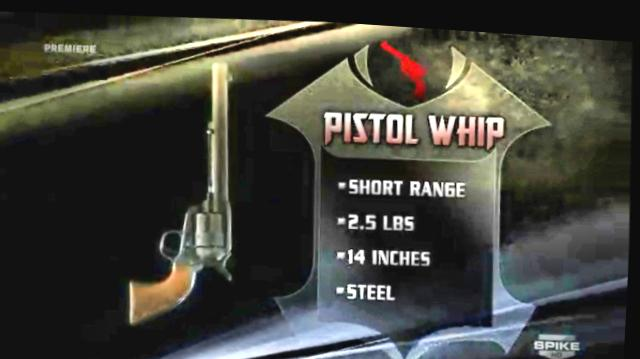pistol: (112, 44, 276, 354)
